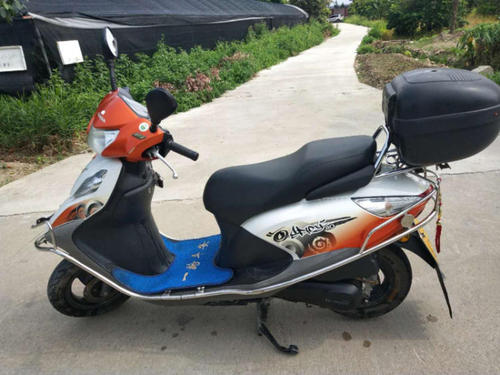motor: (40, 73, 489, 325)
